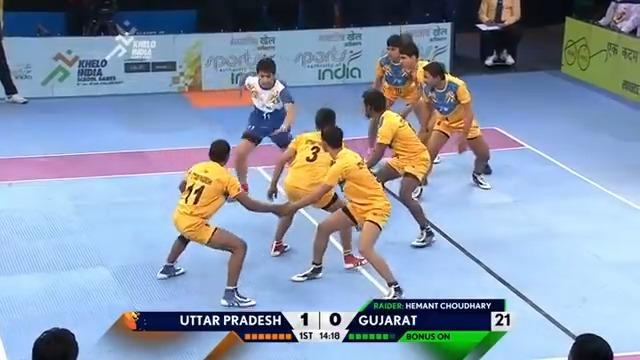Player: (155, 138, 298, 307), (281, 124, 403, 299), (266, 107, 367, 270), (359, 87, 436, 247), (415, 60, 492, 190), (371, 34, 441, 164)
Raider: (230, 57, 295, 198)
referee: (476, 0, 523, 67), (0, 0, 28, 104)
